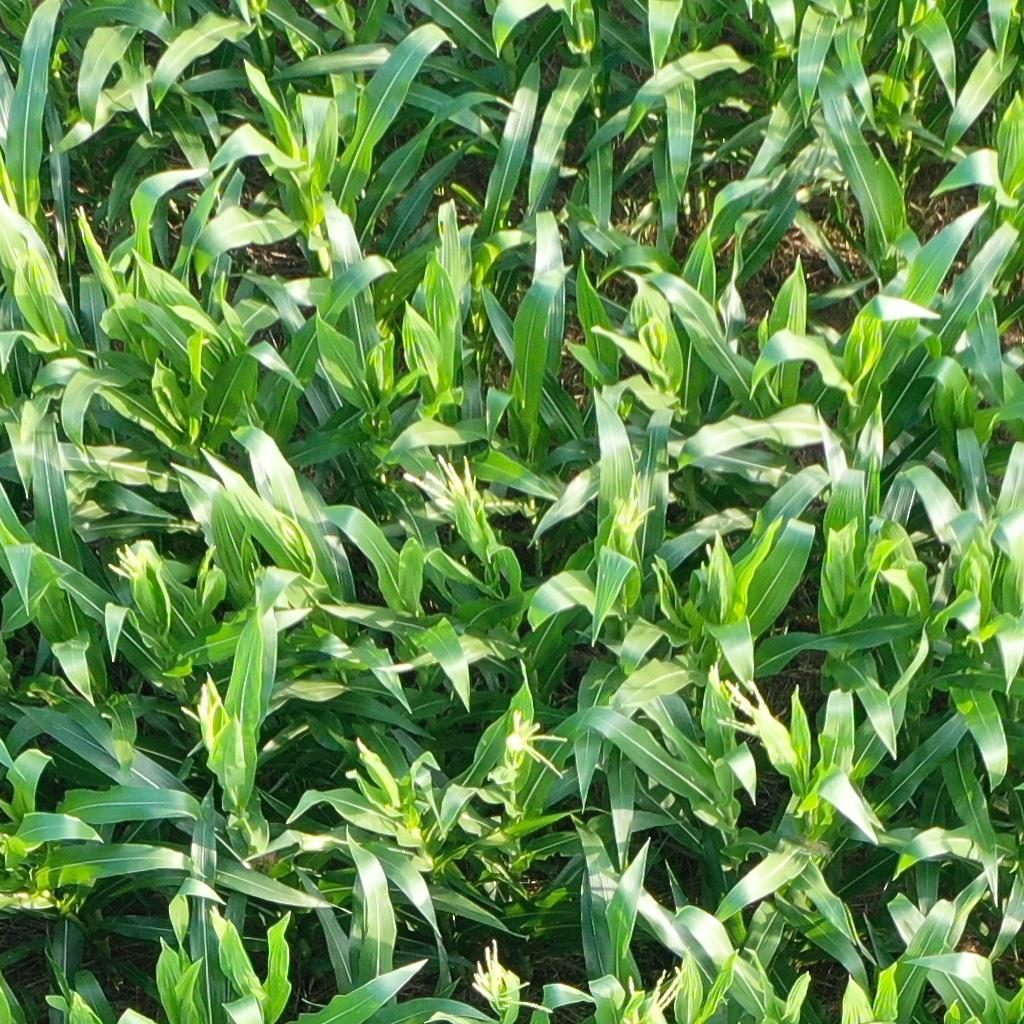Tassel: (462, 936, 561, 1016), (395, 457, 487, 523), (703, 660, 775, 740), (613, 958, 697, 1023), (500, 708, 573, 780), (605, 466, 657, 541), (176, 680, 229, 744), (103, 540, 161, 585), (203, 898, 242, 949), (75, 203, 89, 224)
